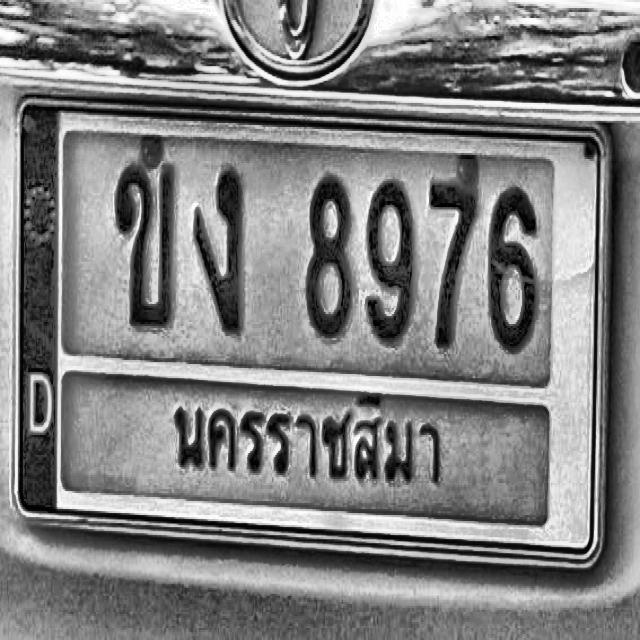license-plate: (8, 77, 614, 587)
